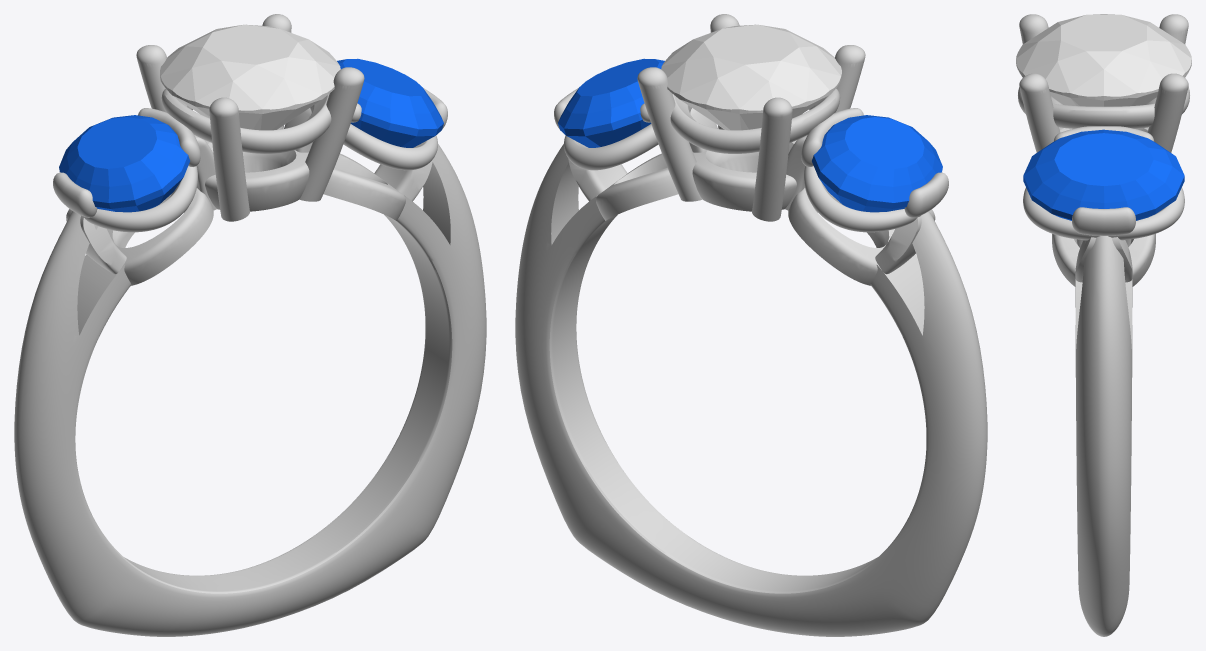
File: RussellEuroband_blender.glb
3 views of the same model, side by side, from view 1: azimuth 30°, elevation 25°; view 2: azimuth 150°, elevation 25°; view 3: azimuth 270°, elevation 25° (orthographic). The views are drawn at different scales.
Parts seen in each view (by area): view 1: Russell PT euro shank for 3d model, Russell dia for 3d model, Russell sapph for 3d model.001, Russell sapph for 3d model; view 2: Russell PT euro shank for 3d model, Russell dia for 3d model, Russell sapph for 3d model.001, Russell sapph for 3d model; view 3: Russell PT euro shank for 3d model, Russell dia for 3d model, Russell sapph for 3d model.
Part boxes in pixels (left/top/right/bottom): Russell PT euro shank for 3d model: left=14, top=14, right=486, bottom=636; Russell dia for 3d model: left=160, top=24, right=340, bottom=130; Russell sapph for 3d model.001: left=59, top=115, right=189, bottom=212; Russell sapph for 3d model: left=337, top=58, right=443, bottom=147; Russell PT euro shank for 3d model: left=515, top=14, right=987, bottom=636; Russell dia for 3d model: left=661, top=24, right=841, bottom=130; Russell sapph for 3d model.001: left=812, top=115, right=942, bottom=212; Russell sapph for 3d model: left=558, top=58, right=664, bottom=147; Russell PT euro shank for 3d model: left=1018, top=14, right=1189, bottom=636; Russell dia for 3d model: left=1016, top=14, right=1191, bottom=106; Russell sapph for 3d model: left=1023, top=129, right=1184, bottom=220.
Bounding box in the file's own units: 21.12 × 25.03 × 7.08.
